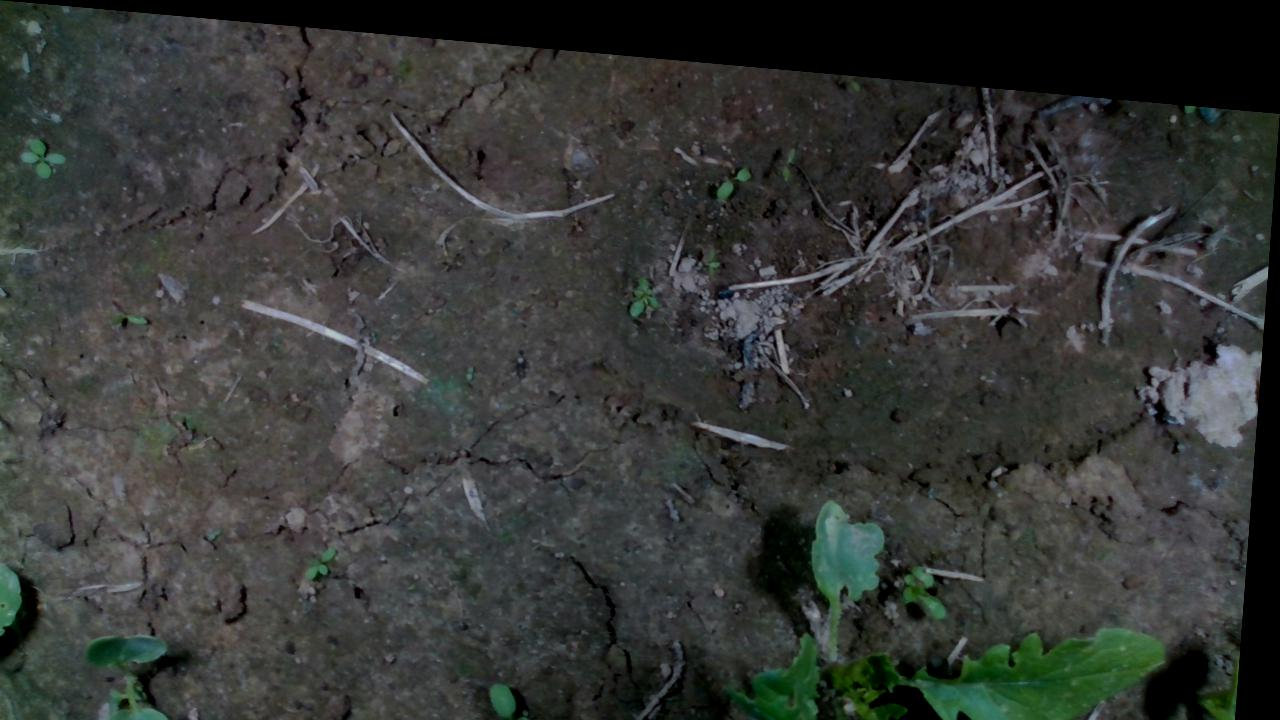weed: (492, 668, 564, 719), (18, 133, 69, 179), (715, 152, 752, 188), (311, 536, 344, 574), (780, 128, 798, 168)
